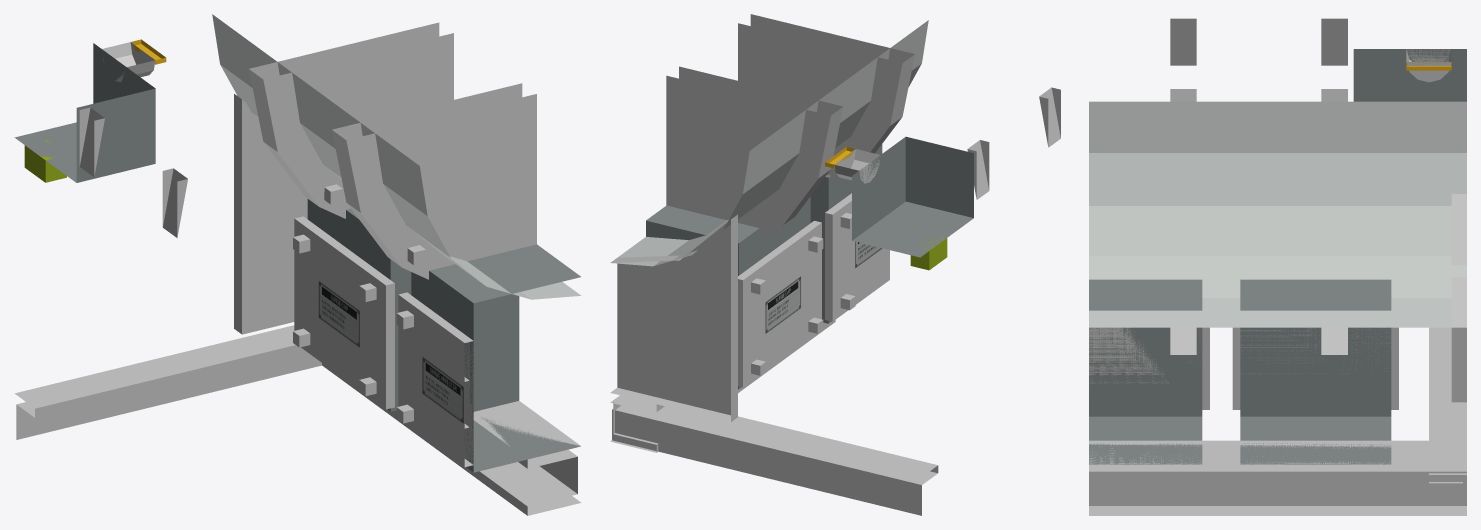
Rendered from cell_63.obj.
The picture shows the model from 3 angles, left to right: view 1: azimuth 30°, elevation 25°; view 2: azimuth 150°, elevation 25°; view 3: azimuth 270°, elevation 25°; orthographic projection. The views are drawn at different scales.
Size of the model in its own units: 1 by 1 by 1.
